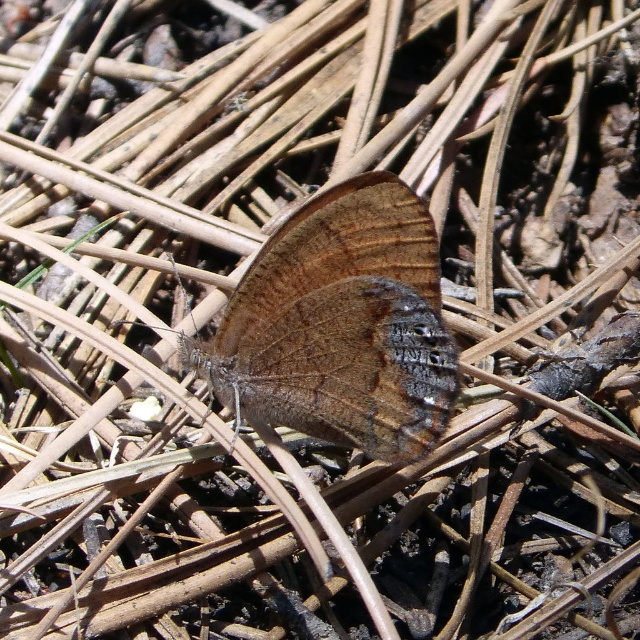Butterfly: (149, 166, 468, 467)
